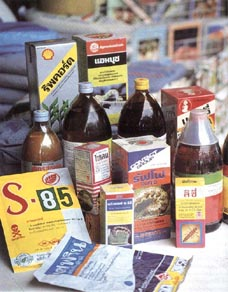Insecticide: (31, 230, 195, 292), (173, 108, 227, 232), (60, 80, 115, 163), (115, 72, 171, 148), (20, 106, 66, 172)
